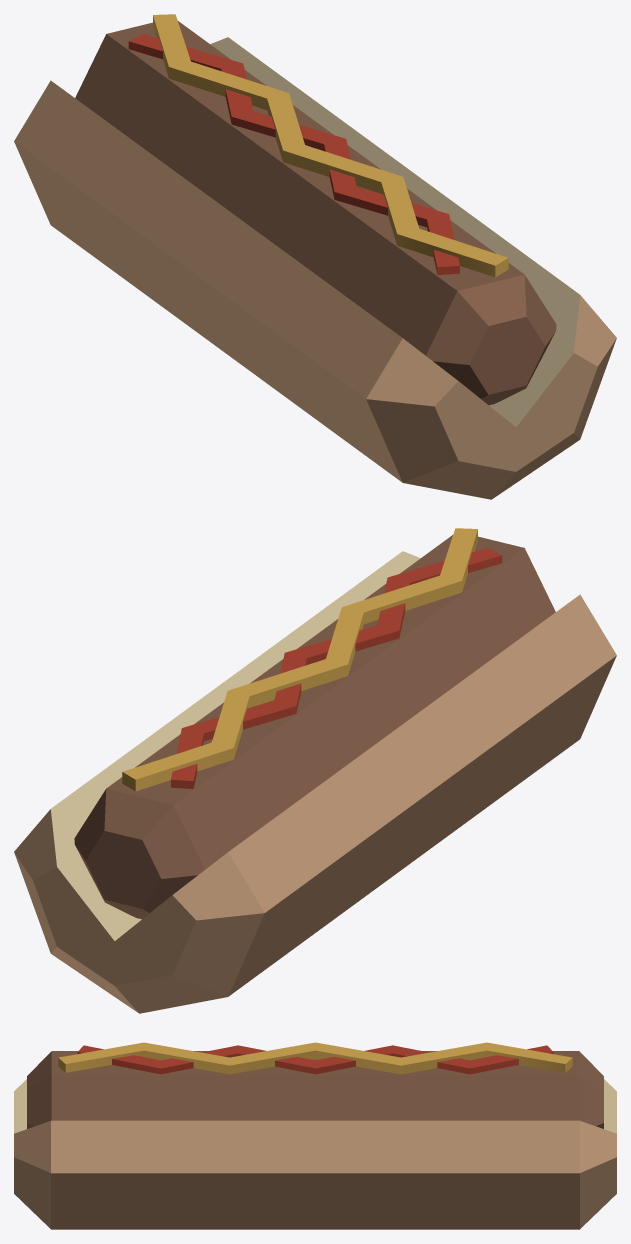
File: SM_Prop_Sign_Hotdog_01.fbx
3 views of the same model, one above another, from view 1: azimuth 30°, elevation 25°; view 2: azimuth 150°, elevation 25°; view 3: azimuth 270°, elevation 25° (orthographic). The views are drawn at different scales.
Parts seen in each view (by area): view 1: SM_Prop_Sign_Hotdog_01; view 2: SM_Prop_Sign_Hotdog_01; view 3: SM_Prop_Sign_Hotdog_01.
Boxes of the visible parts, x1,y1,x2,y2 form: SM_Prop_Sign_Hotdog_01: (14, 14, 616, 499); SM_Prop_Sign_Hotdog_01: (14, 528, 616, 1013); SM_Prop_Sign_Hotdog_01: (14, 1042, 616, 1229).
Size of the model in its own units: 31.27 by 27.2 by 86.68.
